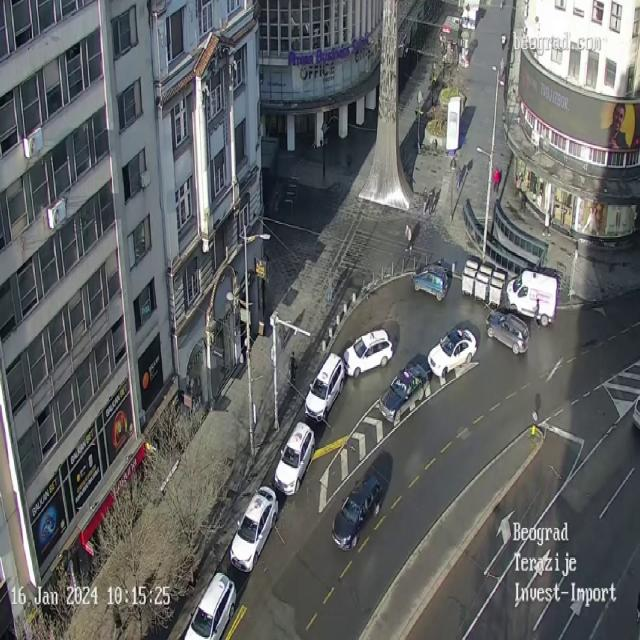car: (230, 485, 278, 573), (331, 474, 382, 550), (183, 572, 237, 640), (380, 358, 429, 421), (274, 421, 314, 496), (304, 352, 345, 425), (427, 326, 478, 378), (342, 329, 393, 379), (509, 271, 557, 323), (486, 310, 530, 356), (411, 263, 448, 302), (632, 395, 640, 430)
